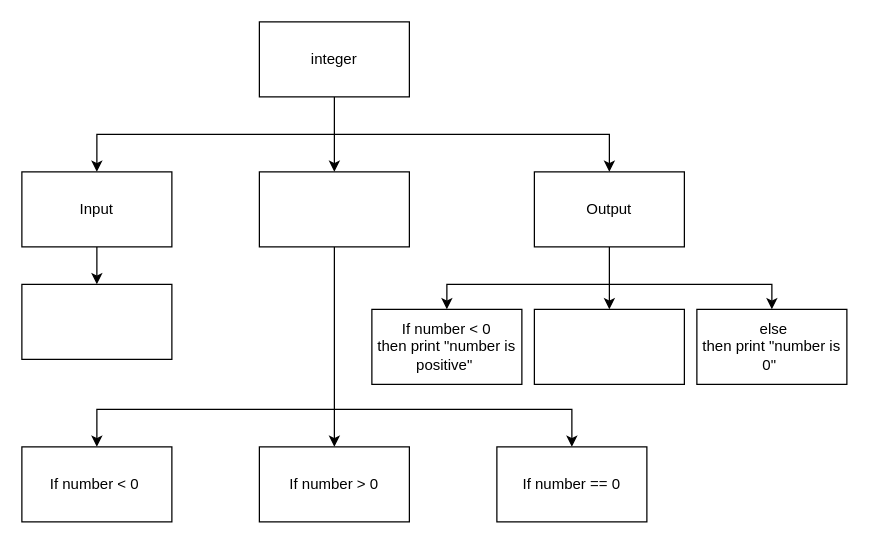
Image size: 869x544. Some labels were removed from this diagram. The centre of each missing label's shape, as x and y in pixels:
Get number: (x=96, y=321)
If number > 0 then print "number is positive": (x=608, y=346)
Process: (x=333, y=209)
